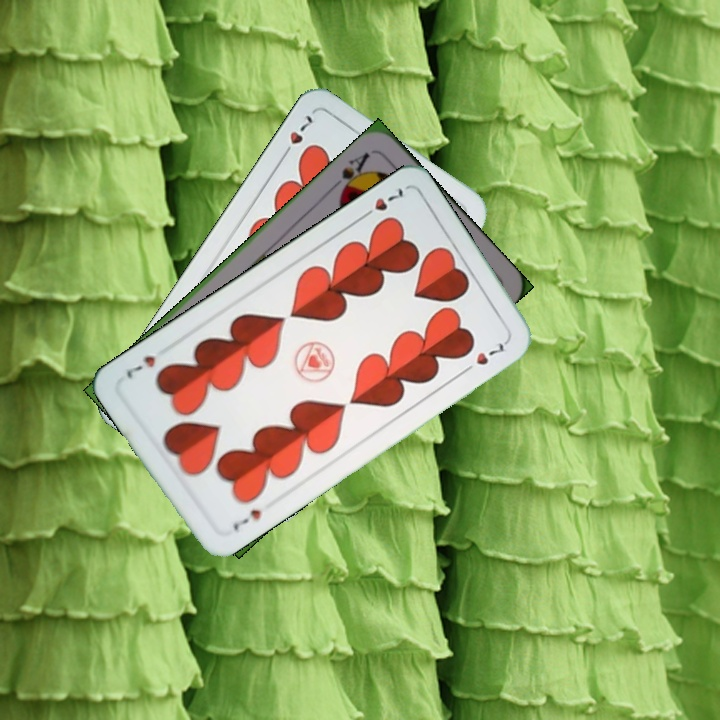H7: (356, 183, 406, 223), (277, 110, 316, 161), (228, 505, 264, 533)
SA: (327, 147, 373, 200)
